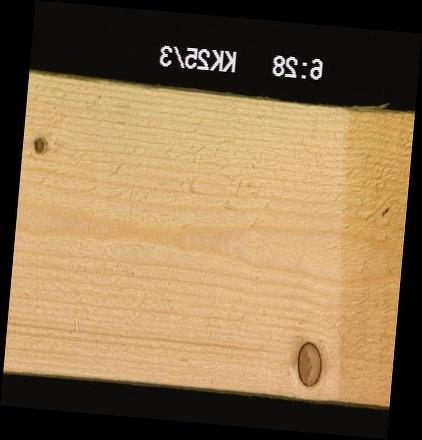dry_knot: (295, 339, 324, 387)
small_knot: (31, 134, 46, 155)
